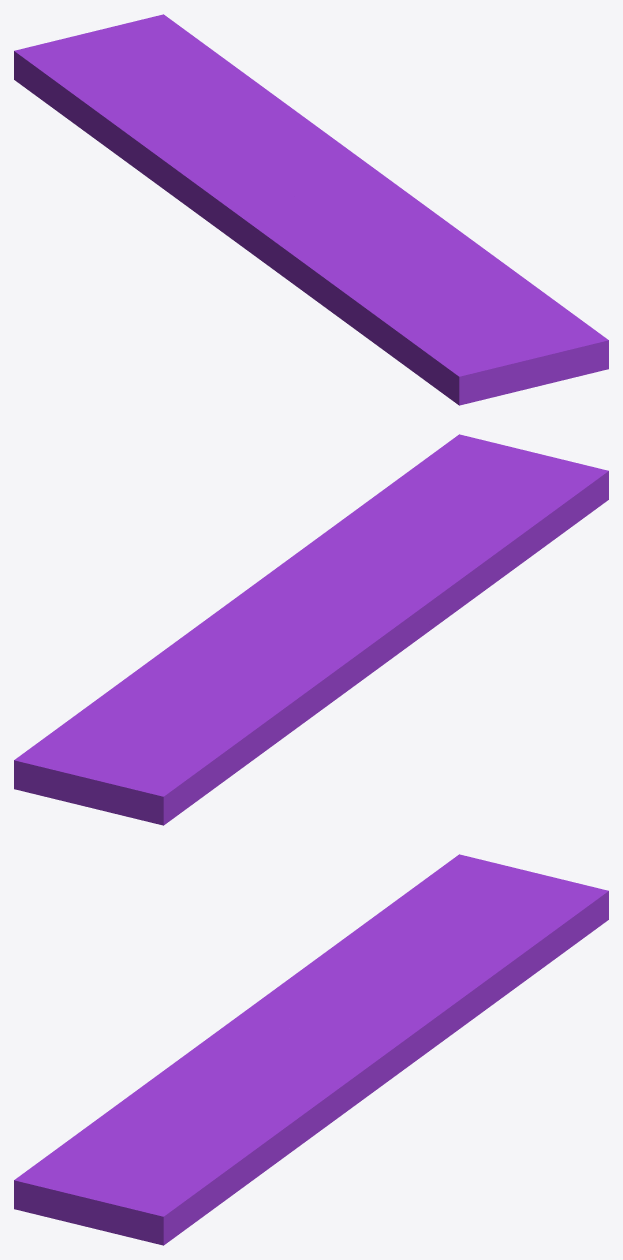
File: StairsStep_135_chunks.fbx
3 views of the same model, one above another, from view 1: azimuth 30°, elevation 25°; view 2: azimuth 150°, elevation 25°; view 3: azimuth 330°, elevation 25° (orthographic).
Parts seen in each view (by area): view 1: StairsStep_135_3, StairsStep_135_0, StairsStep_135_2, StairsStep_135_1; view 2: StairsStep_135_0, StairsStep_135_3, StairsStep_135_2, StairsStep_135_1; view 3: StairsStep_135_3, StairsStep_135_0, StairsStep_135_1, StairsStep_135_2.
Part boxes in pixels (left/top/right/bottom): StairsStep_135_3: left=260, top=191, right=608, bottom=405; StairsStep_135_0: left=14, top=14, right=373, bottom=196; StairsStep_135_2: left=168, top=178, right=288, bottom=278; StairsStep_135_1: left=333, top=168, right=468, bottom=237; StairsStep_135_0: left=14, top=606, right=337, bottom=825; StairsStep_135_3: left=293, top=434, right=608, bottom=626; StairsStep_135_2: left=318, top=617, right=435, bottom=712; StairsStep_135_1: left=224, top=537, right=319, bottom=609; StairsStep_135_3: left=14, top=1028, right=329, bottom=1245; StairsStep_135_0: left=285, top=854, right=608, bottom=1063; StairsStep_135_1: left=246, top=1041, right=411, bottom=1184; StairsStep_135_2: left=214, top=982, right=297, bottom=1033.
Bounding box in the file's own units: 157 × 28.98 × 810.
